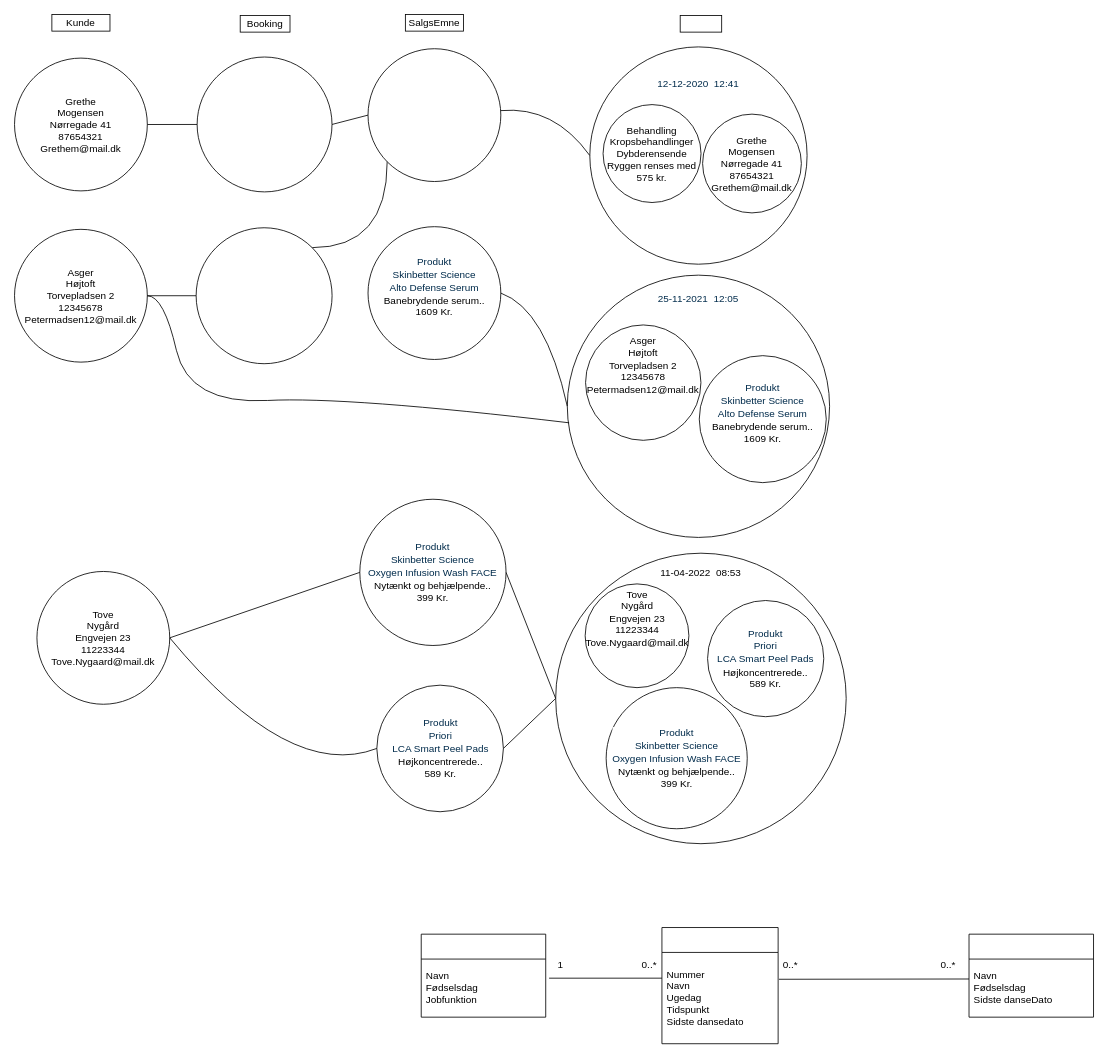
The diagram is 1108 pixels wide and 1058 high, and some of its shapes have lost their labels. Here are the shapes that lost their labels. From the top down, the box of each, then its label:
(679, 15, 722, 32): Salg
(196, 56, 332, 192): 27-10-2019 11.22 12-12-2019 14:15 Grethe Mogensen Ikke aflyst
(367, 48, 501, 182): Behandling Kropsbehandlinger Dybderensende Ryggen renses med.. 575 kr.
(195, 227, 332, 364): 24-06-2020 20.49 03-07-2020 09.00 Asger Højtoft Aflyst
(420, 933, 546, 1017): Medarbejder
(661, 927, 778, 1044): Hold
(968, 933, 1094, 1017): Elev
